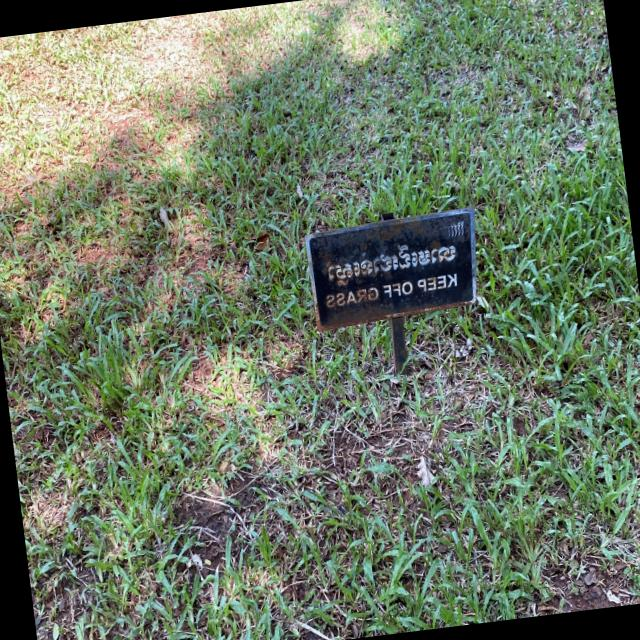Yolov11_80vkh: (326, 234, 457, 289)
